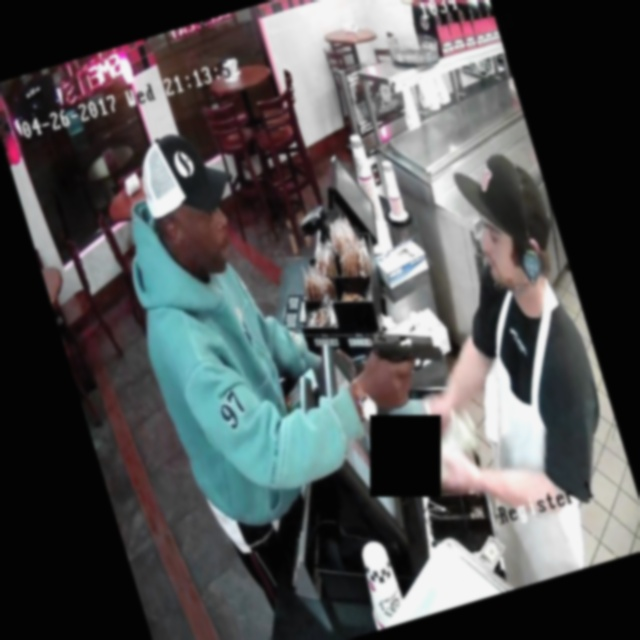gun: (340, 287, 459, 402)
